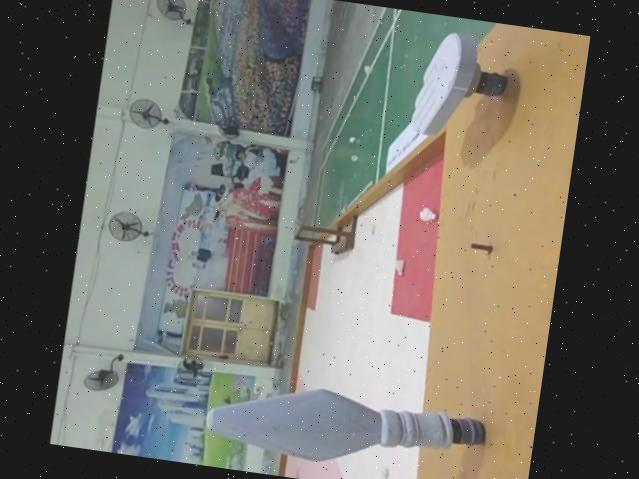Hand: (406, 25, 520, 153)
Sph: (196, 369, 496, 479)
